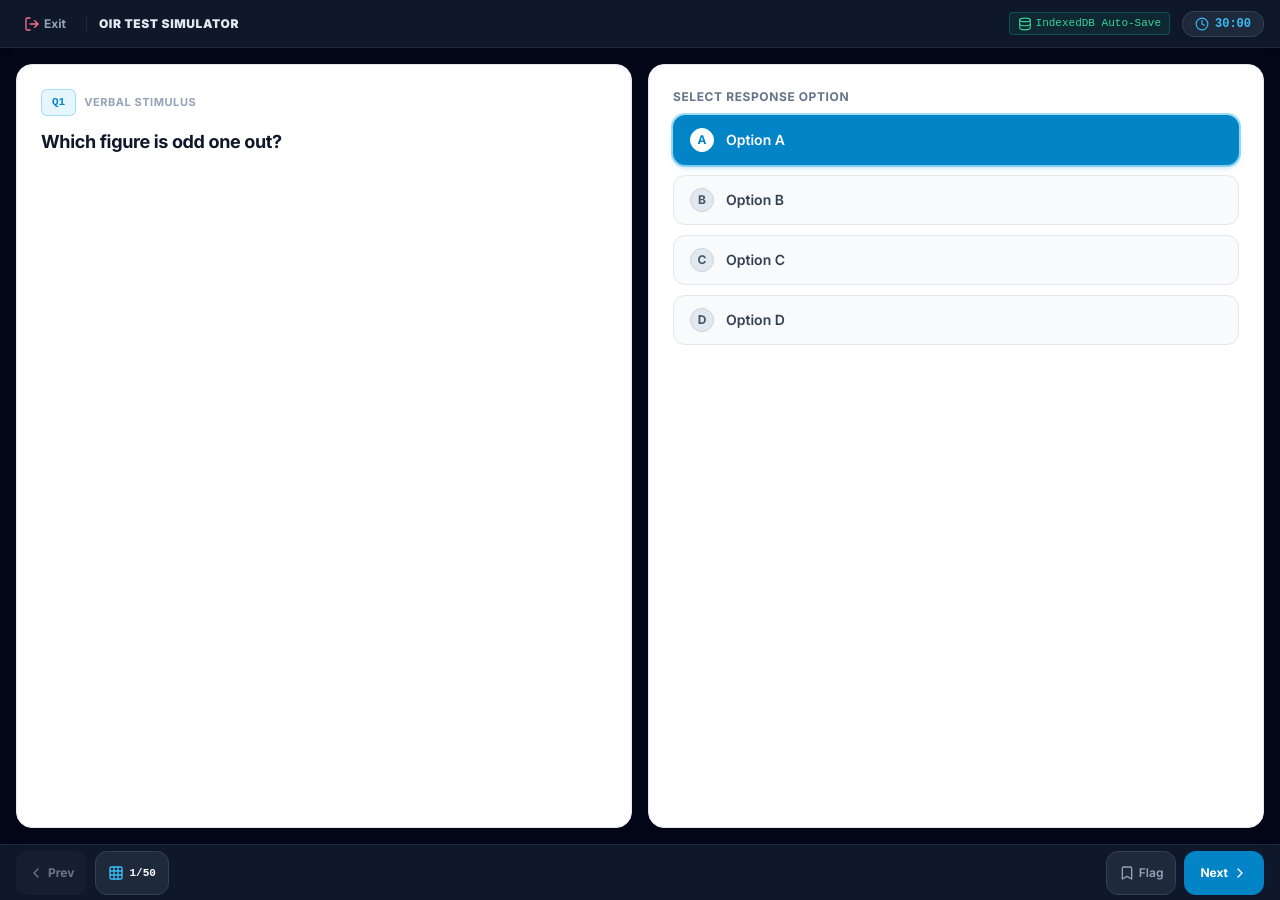
Scenario: TestRunnerLayout Component › opens question grid drawer when grid toggle button is clicked
Click the button with test id "runner-grid-toggle-button" at (132,872), box 94,850 -> 169,894
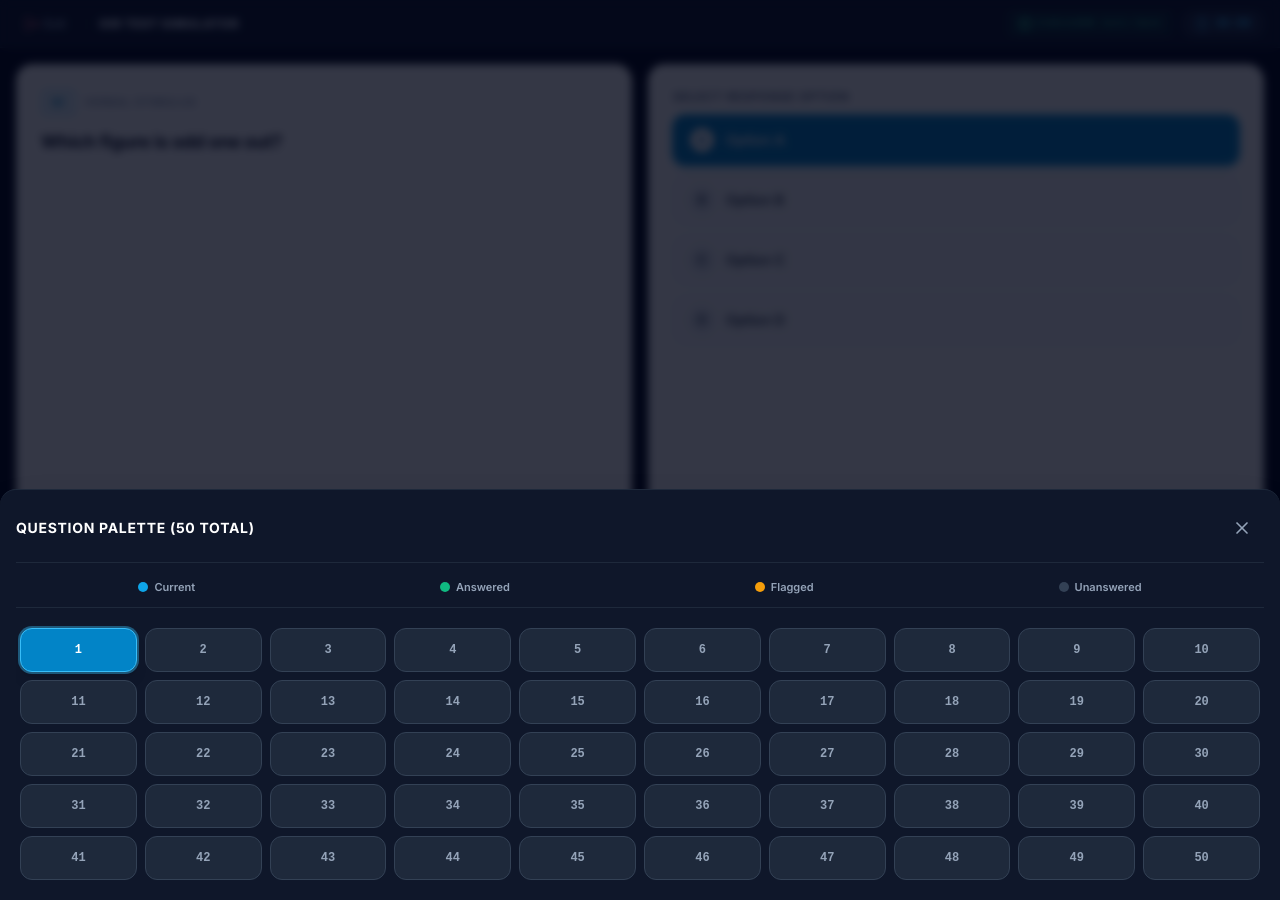
Now the element with test id "question-grid-drawer" is shown
Click the button with test id "close-drawer-button" at (1242,528), box 1220,506 -> 1264,550
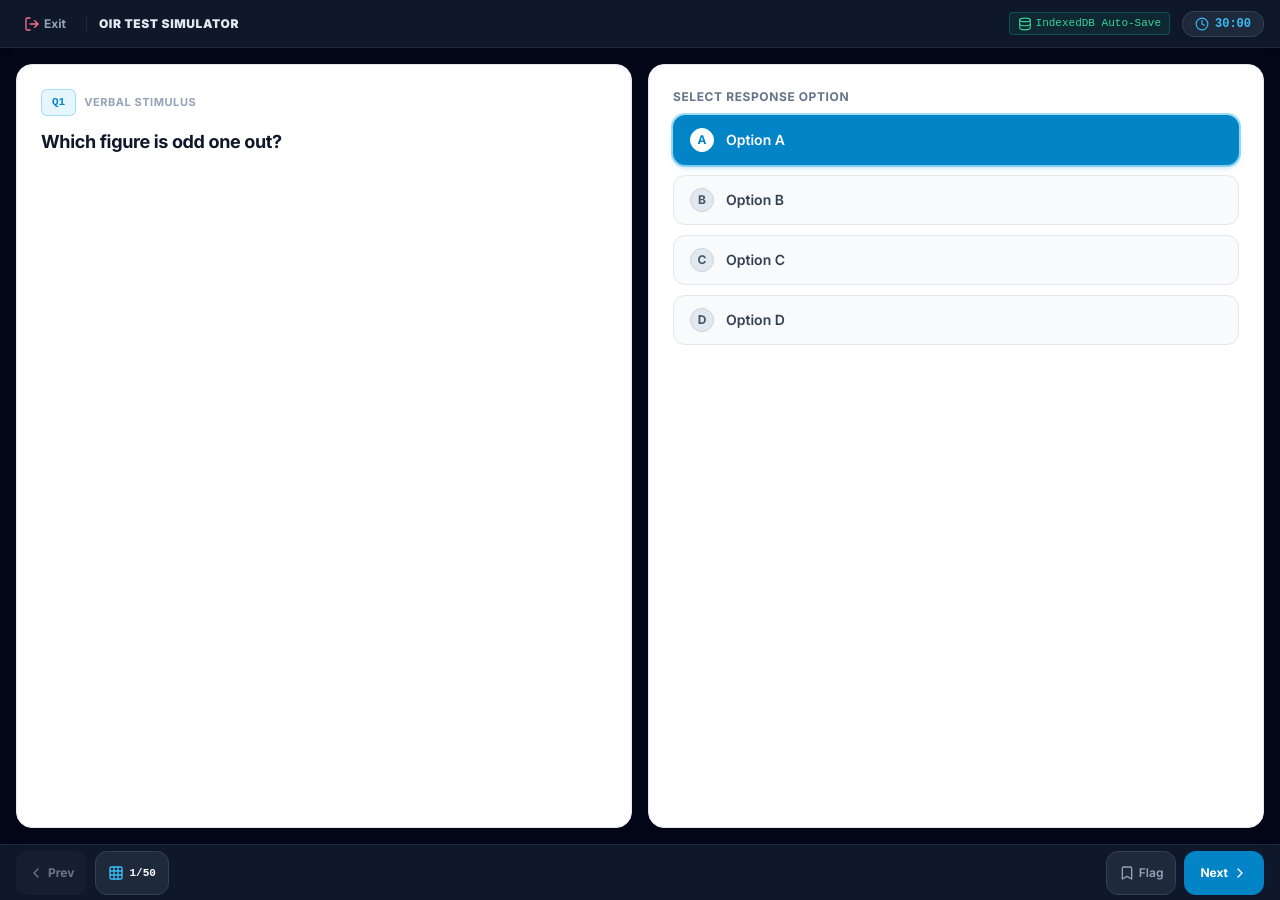
Now the element with test id "question-grid-drawer" is gone
